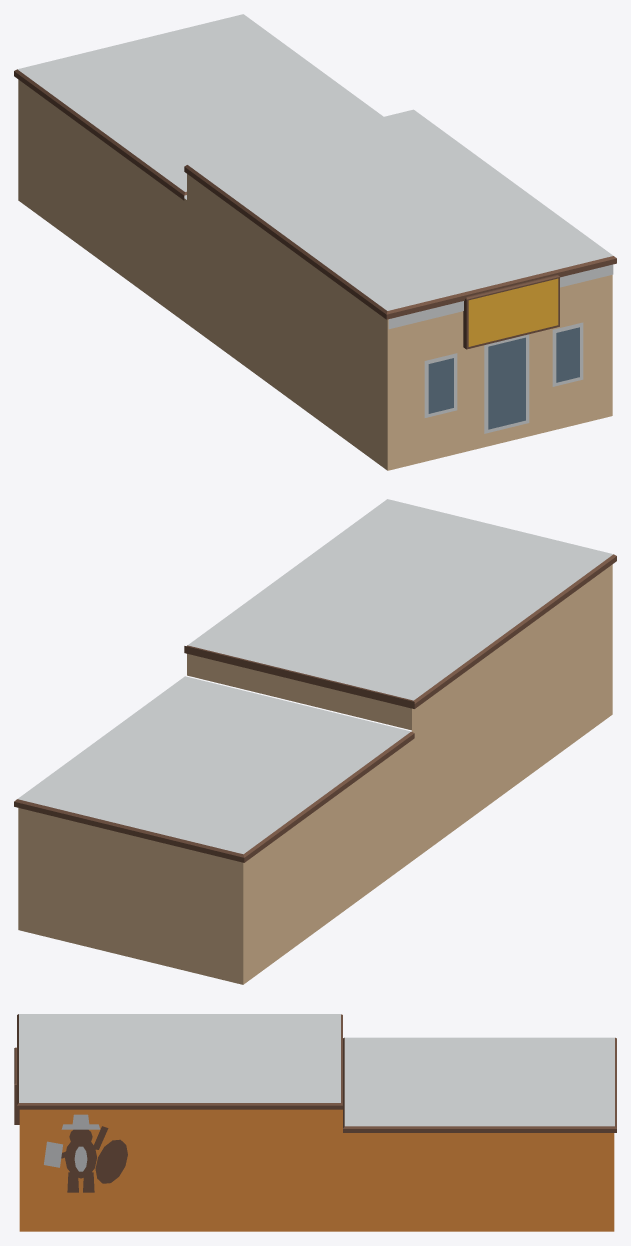
The model's file is clt-thirsty-beaver.glb.
3 renders of one model, top to bottom at view 1: azimuth 30°, elevation 25°; view 2: azimuth 150°, elevation 25°; view 3: azimuth 270°, elevation 25°, orthographic. The views are drawn at different scales.
Visible parts, largest first — view 1: Thirsty Beaver Saloon; view 2: Thirsty Beaver Saloon; view 3: Thirsty Beaver Saloon.
Part boxes in pixels (x1=…): Thirsty Beaver Saloon: x1=14, y1=14, x2=616, y2=470; Thirsty Beaver Saloon: x1=14, y1=499, x2=616, y2=984; Thirsty Beaver Saloon: x1=14, y1=1014, x2=616, y2=1231.
Bounding box in the file's own units: 6.62 × 4.4 × 18.63.
